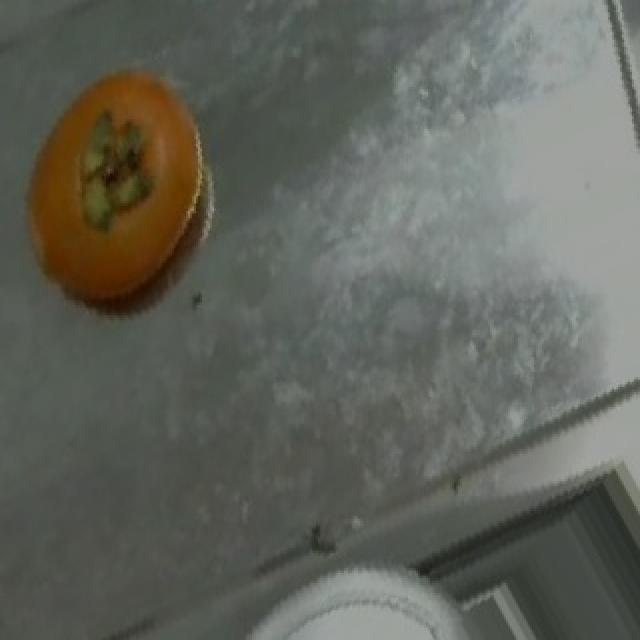Fruit: (4, 47, 234, 335), (260, 588, 468, 640)
